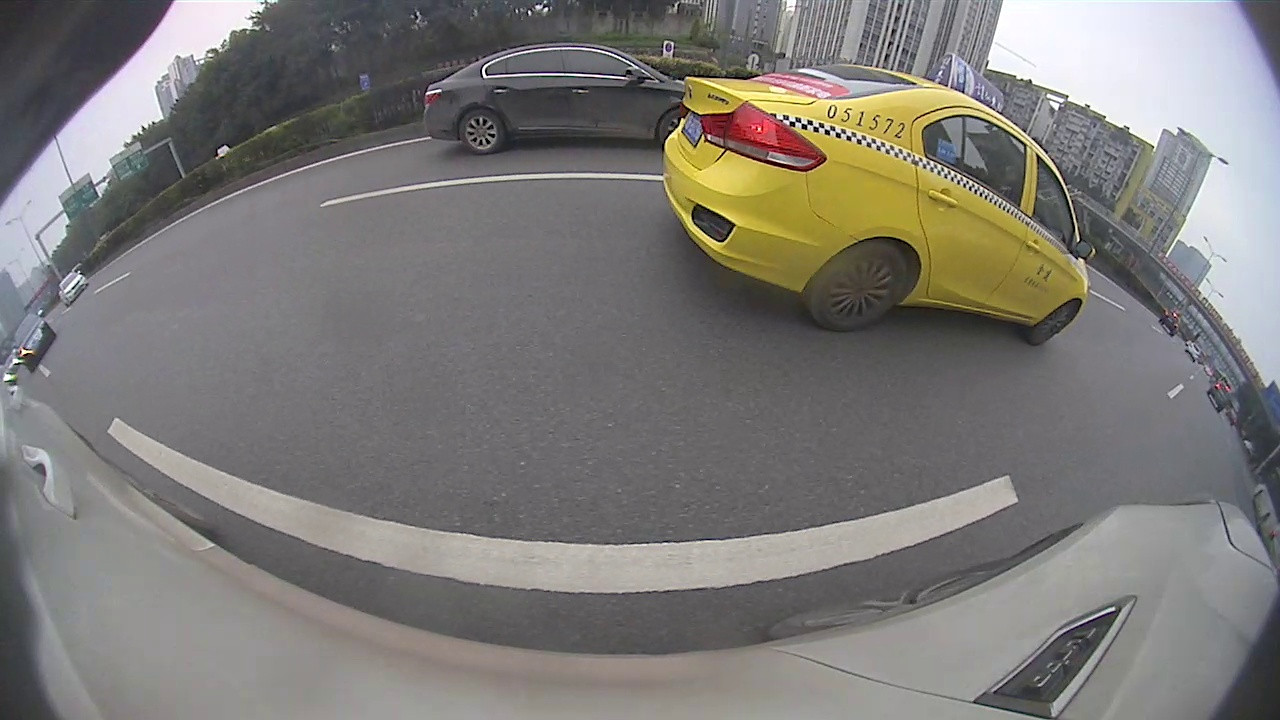car: (659, 51, 1092, 348), (422, 42, 687, 156), (10, 308, 59, 374), (58, 270, 90, 311)
front: (1022, 299, 1082, 348), (657, 107, 684, 149)
rear: (801, 240, 908, 333), (458, 105, 509, 158)
